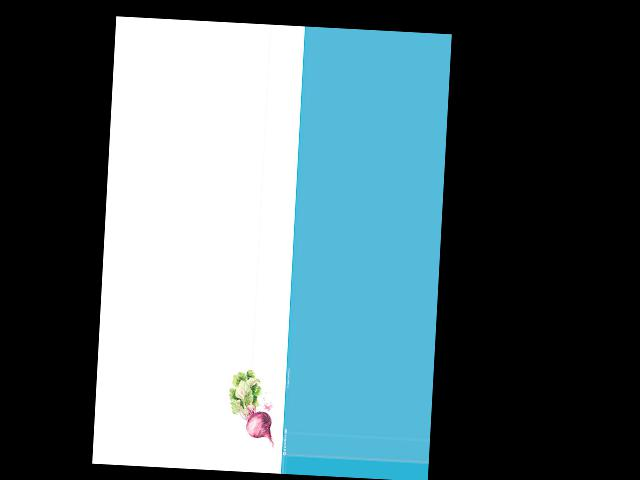beet: (226, 367, 278, 446)
